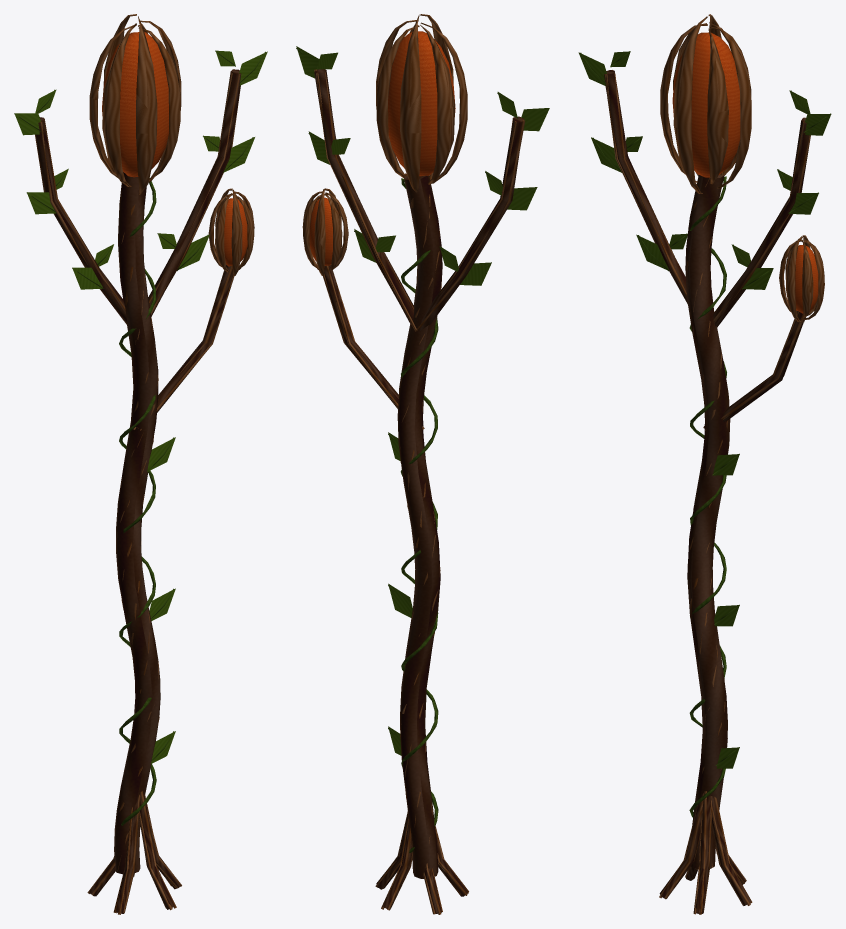
3 renders of one model, left to right at view 1: azimuth 30°, elevation 25°; view 2: azimuth 150°, elevation 25°; view 3: azimuth 330°, elevation 25°, orthographic.
Visible parts, largest first — view 1: Twisted_living_shaft, Amber_sap_heart, Crown_branch.001, Pointed_split_seed_husk.005, Pointed_split_seed_husk.004, Crown_branch, Climbing_green_vine, Pointed_split_seed_husk.006, Secondary_seed_branch, Pointed_split_seed_husk.003, Amber_sap_heart.001, Root_foot.004 (+4 smaller); view 2: Twisted_living_shaft, Amber_sap_heart, Pointed_split_seed_husk.002, Crown_branch.001, Crown_branch, Pointed_split_seed_husk.003, Climbing_green_vine, Pointed_split_seed_husk.001, Secondary_seed_branch, Pointed_split_seed_husk.004, Amber_sap_heart.001, Pointed_split_seed_husk.009 (+4 smaller); view 3: Twisted_living_shaft, Amber_sap_heart, Crown_branch, Pointed_split_seed_husk.006, Pointed_split_seed_husk.005, Crown_branch.001, Climbing_green_vine, Pointed_split_seed_husk, Pointed_split_seed_husk.004, Secondary_seed_branch, Root_foot.004, Amber_sap_heart.001 (+5 smaller).
Boxes of the visible parts, box(x1,y1,x2,y2) form: Twisted_living_shaft: box(114, 172, 160, 874); Amber_sap_heart: box(102, 31, 168, 177); Crown_branch.001: box(148, 69, 241, 316); Pointed_split_seed_husk.005: box(136, 16, 157, 194); Pointed_split_seed_husk.004: box(102, 23, 136, 186); Crown_branch: box(36, 117, 127, 324); Climbing_green_vine: box(119, 181, 156, 825); Pointed_split_seed_husk.006: box(138, 27, 180, 179); Secondary_seed_branch: box(136, 265, 233, 428); Pointed_split_seed_husk.003: box(89, 25, 136, 178); Amber_sap_heart.001: box(217, 198, 247, 266); Root_foot.004: box(139, 794, 174, 909); Twisted_living_shaft: box(397, 175, 442, 878); Amber_sap_heart: box(388, 31, 455, 176); Pointed_split_seed_husk.002: box(400, 14, 421, 192); Crown_branch.001: box(314, 69, 414, 328); Crown_branch: box(420, 116, 524, 330); Pointed_split_seed_husk.003: box(420, 25, 455, 184); Climbing_green_vine: box(400, 178, 438, 852); Pointed_split_seed_husk.001: box(376, 26, 418, 178); Secondary_seed_branch: box(324, 265, 423, 425); Pointed_split_seed_husk.004: box(420, 22, 467, 183); Amber_sap_heart.001: box(309, 197, 338, 265); Pointed_split_seed_husk.009: box(314, 189, 325, 276); Twisted_living_shaft: box(685, 174, 730, 868); Amber_sap_heart: box(672, 32, 740, 177); Crown_branch: box(604, 70, 687, 304); Pointed_split_seed_husk.006: box(707, 28, 728, 184); Pointed_split_seed_husk.005: box(673, 16, 707, 193); Crown_branch.001: box(713, 117, 809, 326); Climbing_green_vine: box(689, 176, 726, 817); Pointed_split_seed_husk: box(709, 22, 751, 188); Pointed_split_seed_husk.004: box(660, 23, 707, 182); Secondary_seed_branch: box(704, 311, 804, 427); Root_foot.004: box(695, 795, 710, 913); Amber_sap_heart.001: box(787, 245, 818, 313).
Bounding box in the file's own units: 0.614 × 2.04 × 0.2002.
5 materials, 5 textured.
